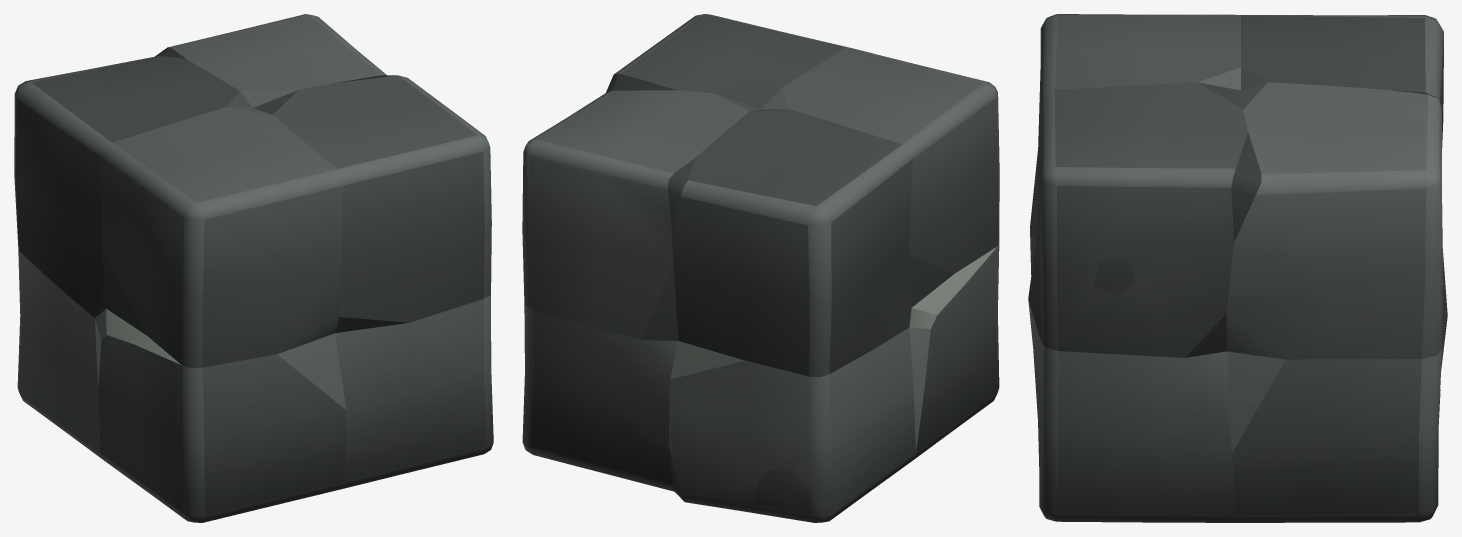
The model's file is tavern_cellar_dark_stone_floor.fbx.
3 views of the same model, side by side, from view 1: azimuth 30°, elevation 25°; view 2: azimuth 150°, elevation 25°; view 3: azimuth 270°, elevation 25° (orthographic). The views are drawn at different scales.
Parts seen in each view (by area): view 1: tavern_cellar_dark_stone_floor_LOD0; view 2: tavern_cellar_dark_stone_floor_LOD0; view 3: tavern_cellar_dark_stone_floor_LOD0.
Boxes of the visible parts, x1,y1,x2,y2 form: tavern_cellar_dark_stone_floor_LOD0: (14,14,493,522); tavern_cellar_dark_stone_floor_LOD0: (522,14,999,522); tavern_cellar_dark_stone_floor_LOD0: (1028,14,1447,522).
Size of what is drawn, in the model's own units: 104 by 104 by 106.
